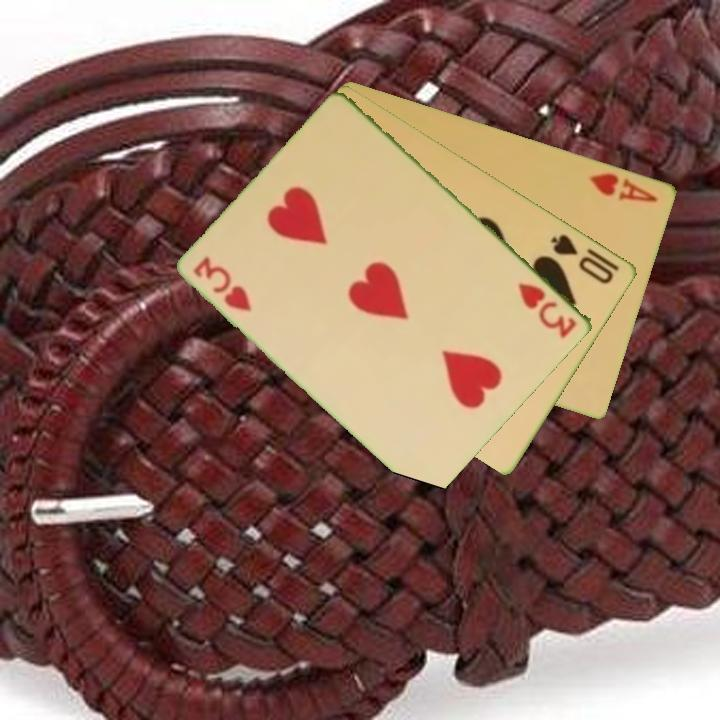10s: (547, 230, 623, 287)
3h: (515, 279, 580, 342), (190, 253, 256, 315)
Ah: (586, 169, 661, 205)
